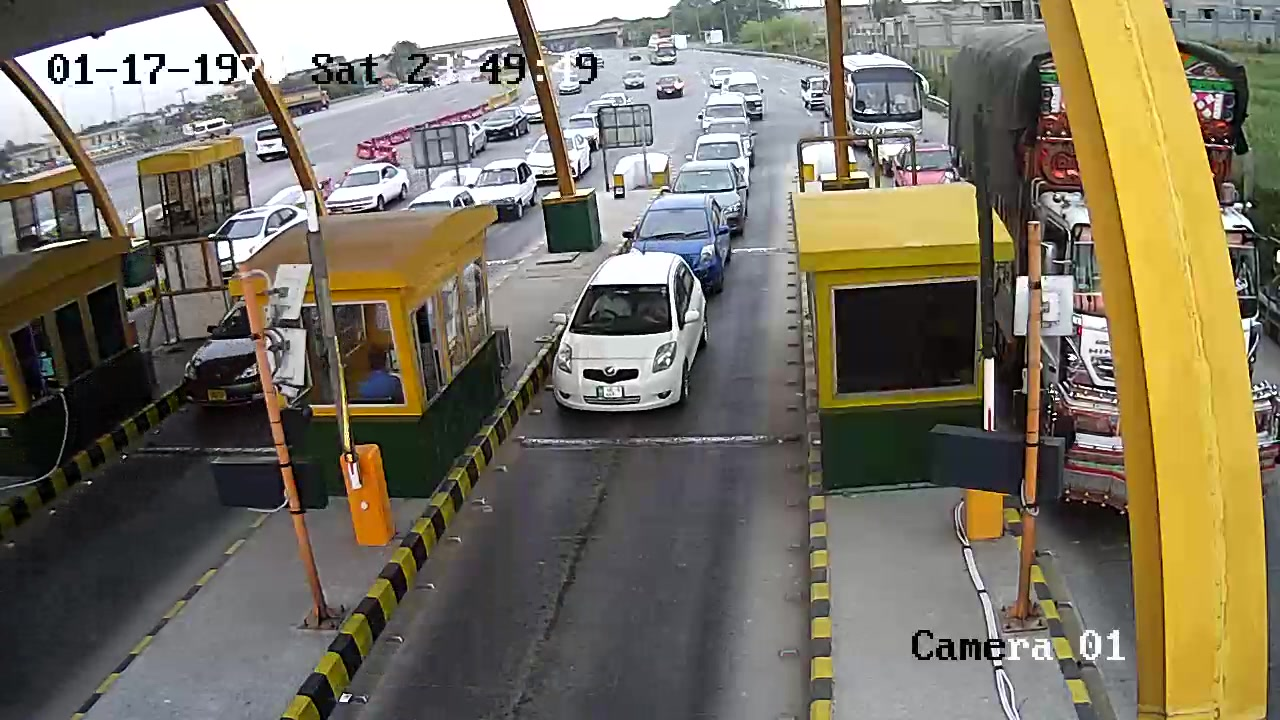F1: (544, 244, 714, 425)
